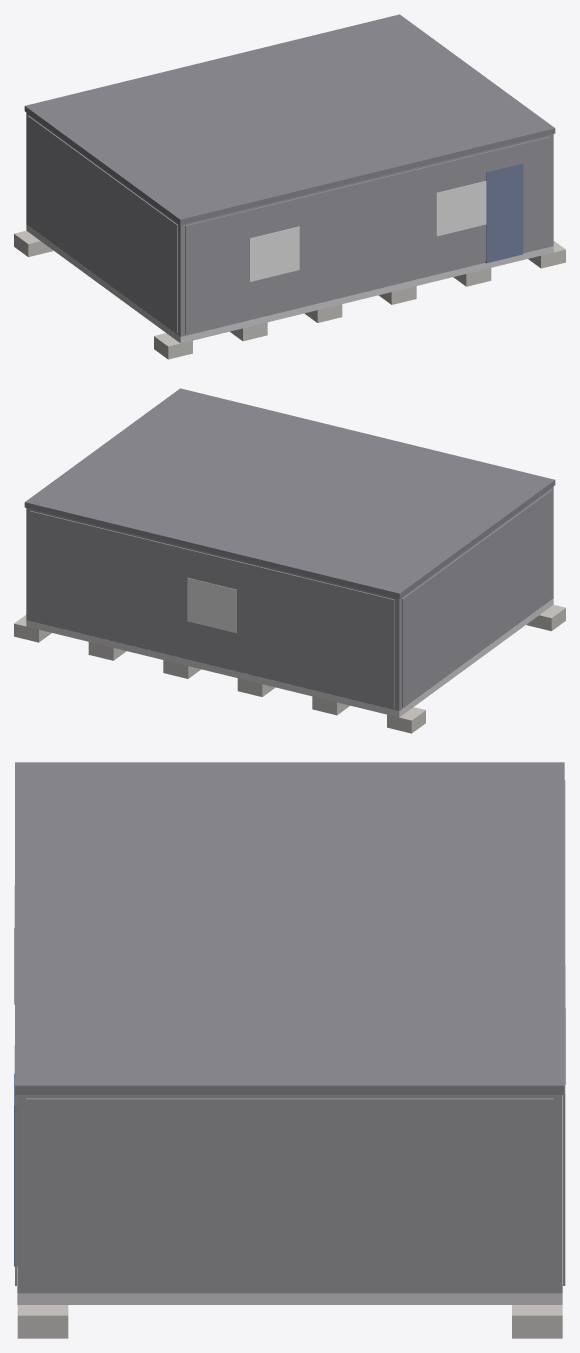
Rendered from Studio-30-Base-AncientWallGrey-LOD3.glb.
3 renders of one model, top to bottom at view 1: azimuth 30°, elevation 25°; view 2: azimuth 150°, elevation 25°; view 3: azimuth 270°, elevation 25°, orthographic. The views are drawn at different scales.
Visible parts, largest first — view 1: RoofMain, ExteriorPanelsStandard, WindowsStandard, BaseFrame, FoundationBlocks, ExteriorShell, EntryDoor; view 2: RoofMain, ExteriorPanelsStandard, BaseFrame, ExteriorShell, FoundationBlocks, WindowsStandard; view 3: RoofMain, ExteriorPanelsStandard, ExteriorShell, BaseFrame, FoundationBlocks.
Boxes of the visible parts, bbox=[...] form: RoofMain: bbox=[24, 14, 555, 224]; ExteriorPanelsStandard: bbox=[27, 115, 549, 334]; WindowsStandard: bbox=[249, 181, 486, 281]; BaseFrame: bbox=[26, 224, 553, 343]; FoundationBlocks: bbox=[14, 230, 565, 359]; ExteriorShell: bbox=[26, 112, 553, 336]; EntryDoor: bbox=[485, 163, 523, 263]; RoofMain: bbox=[24, 388, 555, 598]; ExteriorPanelsStandard: bbox=[30, 489, 552, 708]; BaseFrame: bbox=[26, 598, 553, 717]; ExteriorShell: bbox=[26, 486, 553, 710]; FoundationBlocks: bbox=[14, 604, 565, 733]; WindowsStandard: bbox=[187, 577, 236, 633]; RoofMain: bbox=[15, 762, 564, 1094]; ExteriorPanelsStandard: bbox=[15, 780, 565, 1290]; ExteriorShell: bbox=[17, 1095, 562, 1293]; BaseFrame: bbox=[17, 1293, 562, 1304]; FoundationBlocks: bbox=[17, 1305, 562, 1338].
Size of the model in its own units: 9.6 by 3.17 by 6.53.
